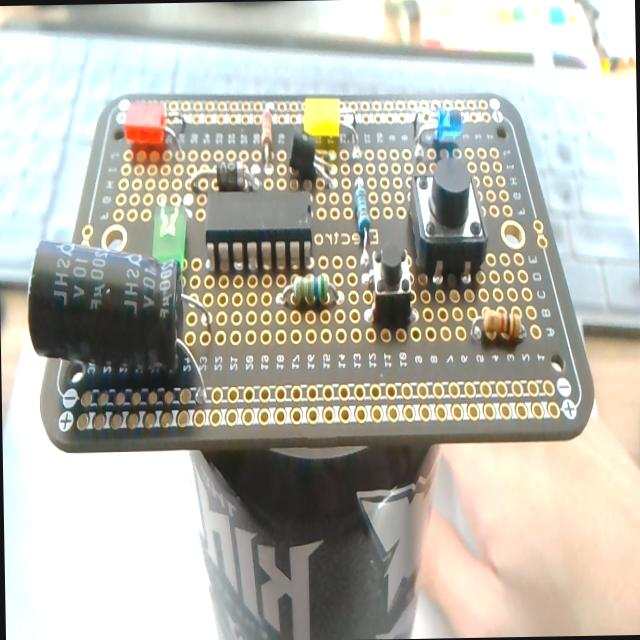Electrolytic capacitor: (27, 237, 184, 371)
IC: (202, 186, 310, 269)
diode: (189, 160, 257, 192)
led: (122, 100, 176, 160), (150, 200, 188, 272), (417, 108, 462, 159), (303, 96, 339, 140)
resistor: (469, 304, 526, 344), (281, 271, 338, 309), (354, 176, 373, 274), (260, 105, 273, 162)
switch: (408, 159, 487, 283), (367, 244, 415, 328)
transistor: (286, 124, 344, 188)
